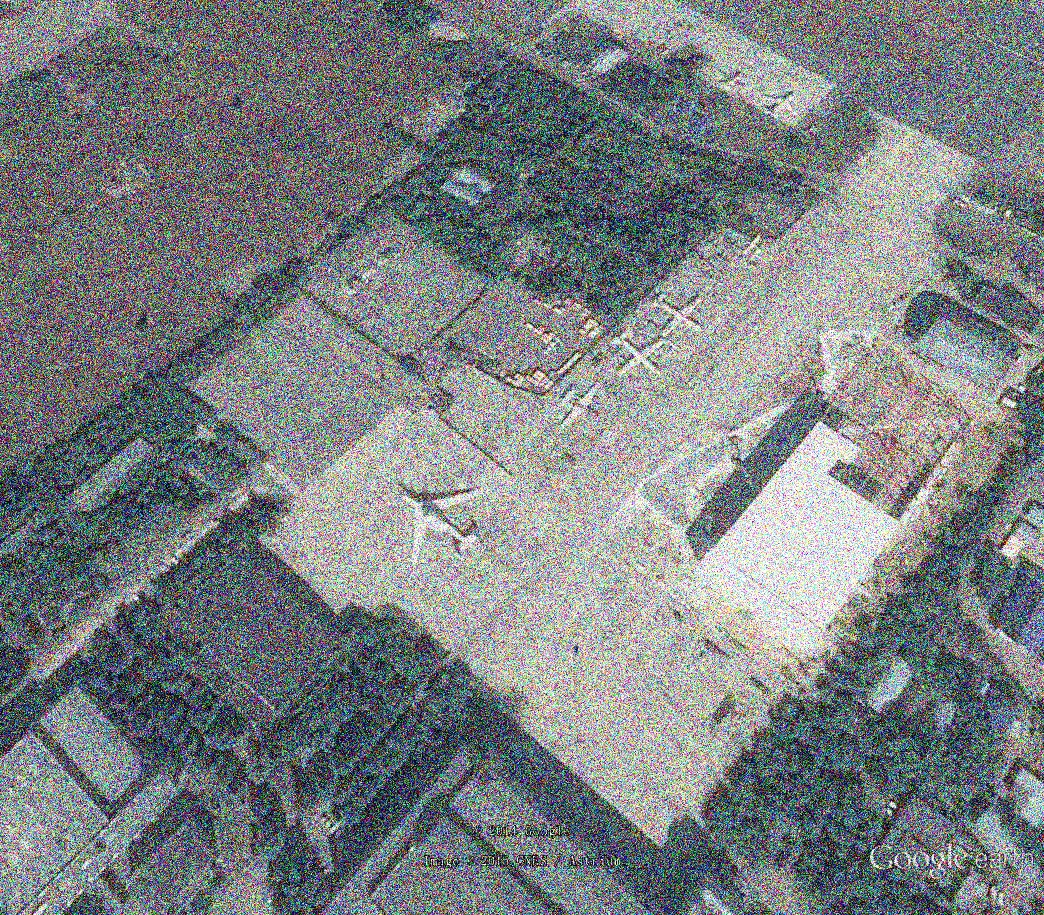aircraft: (403, 484, 484, 562), (606, 325, 670, 379), (556, 378, 606, 433), (651, 289, 708, 337), (760, 90, 802, 123), (718, 66, 753, 97), (739, 232, 765, 258)
